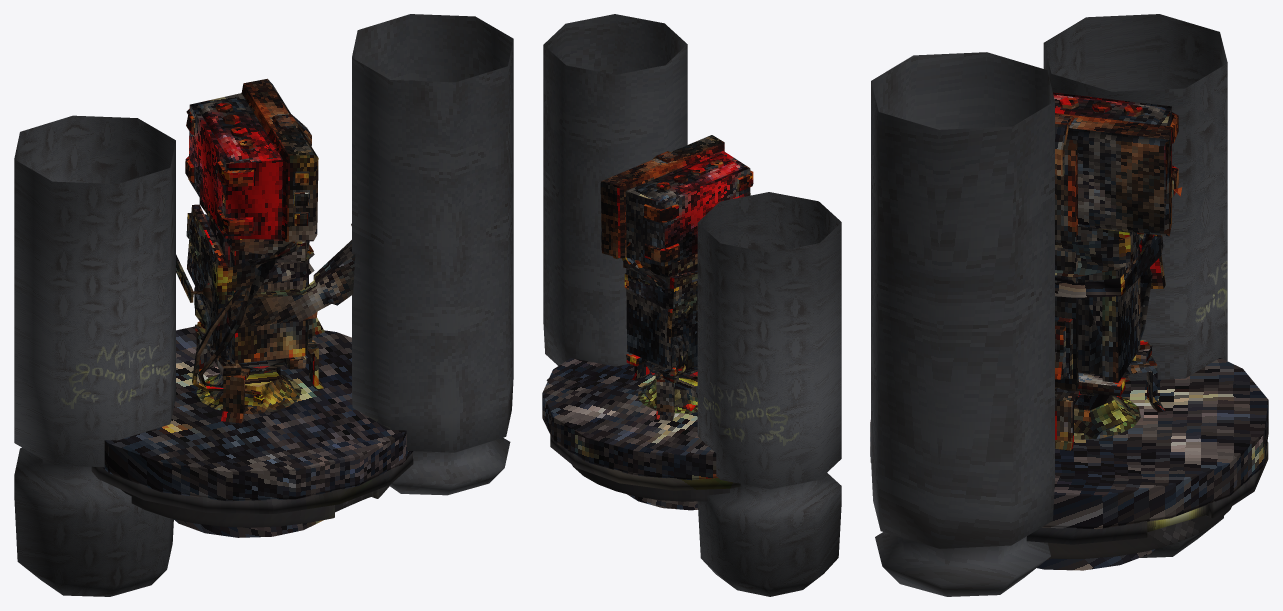
3 views of the same model, side by side, from view 1: azimuth 30°, elevation 25°; view 2: azimuth 150°, elevation 25°; view 3: azimuth 270°, elevation 25° (orthographic). The views are drawn at different scales.
Parts seen in each view (by area): view 1: Cube.003, Cube.002, Structure_HEA_PlayerShip_v4_NearProxy.002, Cylinder.001, Cylinder.003, Cylinder.002; view 2: Cube.002, Cube.003, Structure_HEA_PlayerShip_v4_NearProxy.002, Cylinder.001, Cylinder.003, Cylinder.002; view 3: Cube.003, Structure_HEA_PlayerShip_v4_NearProxy.002, Cube.002, Cylinder.001, Cylinder.003, Cylinder.002.
Boxes of the visible parts, left/top/right/bottom form: Cube.003: left=352, top=14, right=513, bottom=495; Cube.002: left=14, top=115, right=175, bottom=596; Structure_HEA_PlayerShip_v4_NearProxy.002: left=176, top=78, right=355, bottom=423; Cylinder.001: left=102, top=326, right=413, bottom=537; Cylinder.003: left=91, top=452, right=413, bottom=513; Cylinder.002: left=121, top=485, right=389, bottom=527; Cube.002: left=697, top=192, right=841, bottom=596; Cube.003: left=543, top=14, right=687, bottom=380; Structure_HEA_PlayerShip_v4_NearProxy.002: left=600, top=135, right=753, bottom=420; Cylinder.001: left=542, top=358, right=717, bottom=510; Cylinder.003: left=550, top=435, right=740, bottom=490; Cylinder.002: left=572, top=465, right=729, bottom=501; Cube.003: left=871, top=52, right=1054, bottom=596; Structure_HEA_PlayerShip_v4_NearProxy.002: left=1053, top=92, right=1182, bottom=450; Cube.002: left=1043, top=14, right=1227, bottom=557; Cylinder.001: left=870, top=358, right=1268, bottom=570; Cylinder.003: left=870, top=441, right=1268, bottom=544; Cylinder.002: left=1048, top=506, right=1231, bottom=558.
Size of the model in its own units: 1.1 by 1.37 by 0.8375.
Materials: 4 (4 with a texture image).
